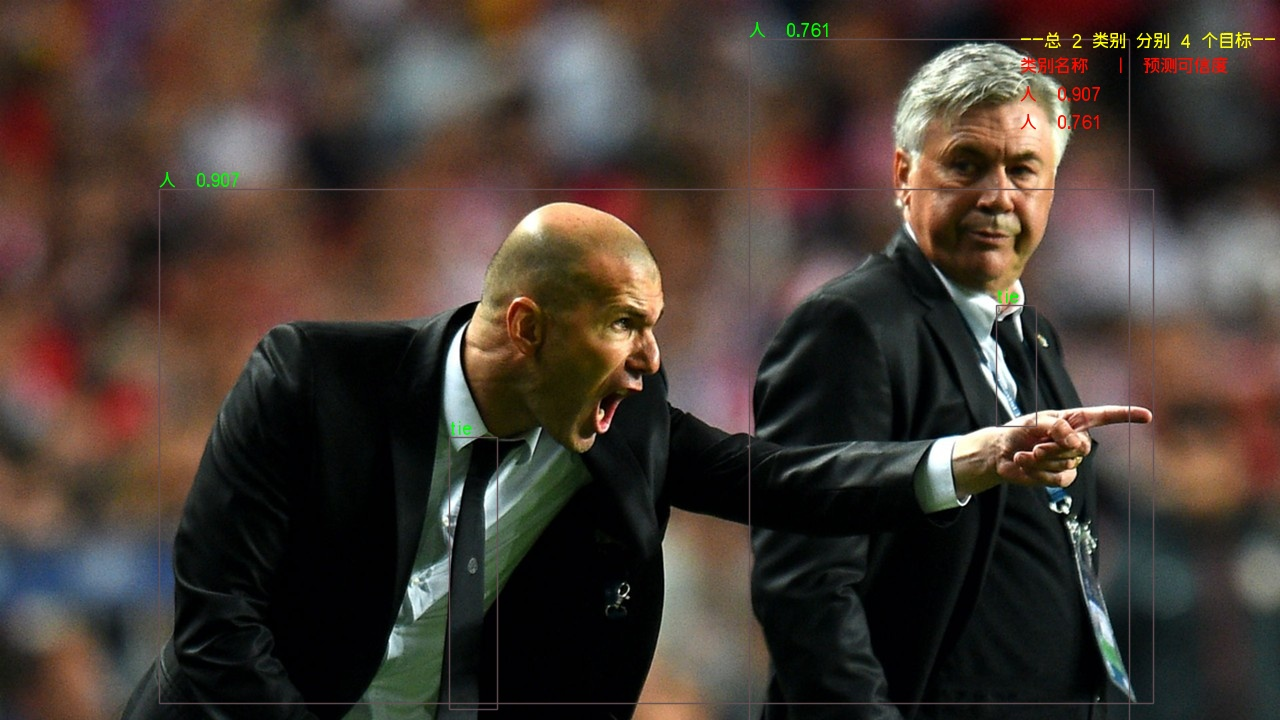person: (159, 189, 1153, 703), (749, 39, 1129, 720)
tie: (449, 437, 497, 709), (996, 305, 1036, 426)
